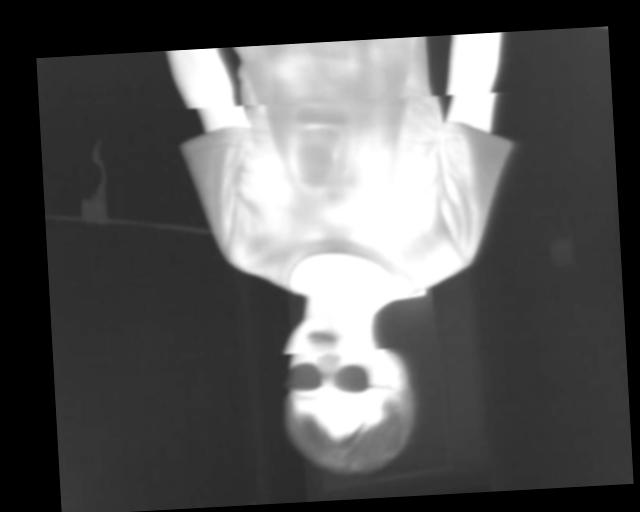face: (274, 305, 419, 480)
